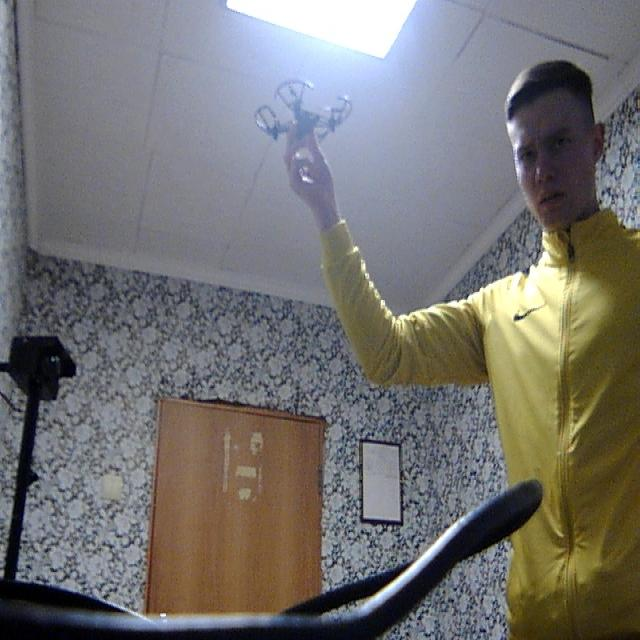drone: (248, 70, 360, 152)
